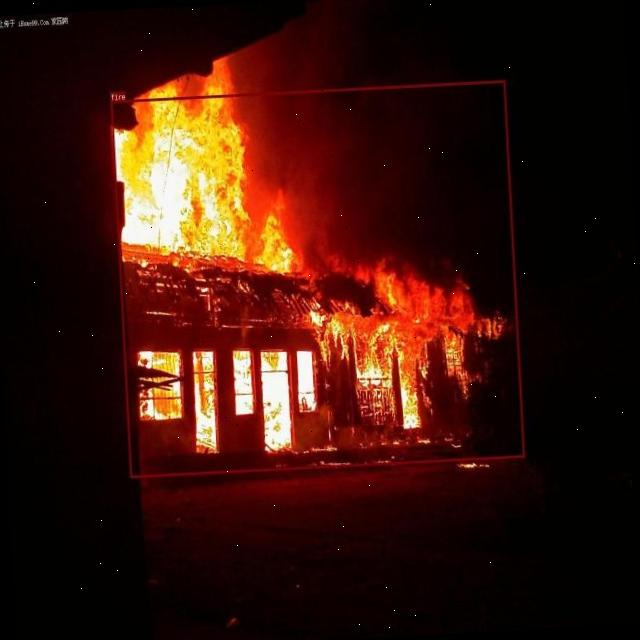fire: (110, 80, 524, 477)
